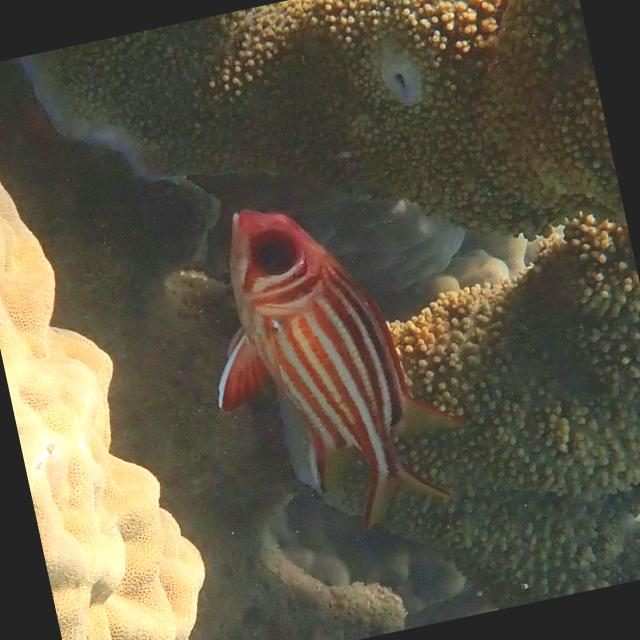Asker Baligi: (158, 153, 516, 597)
